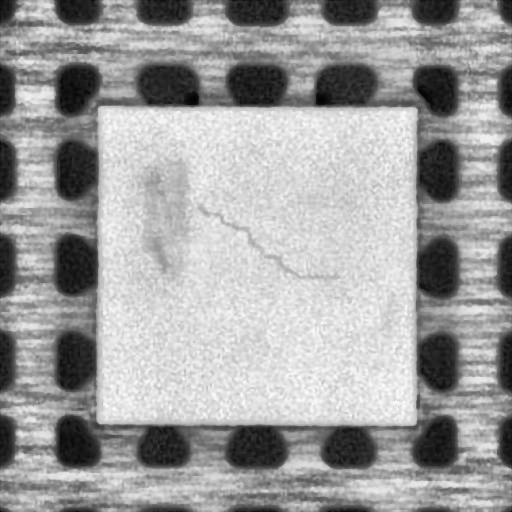DIE_CRACK: (200, 203, 342, 281)
